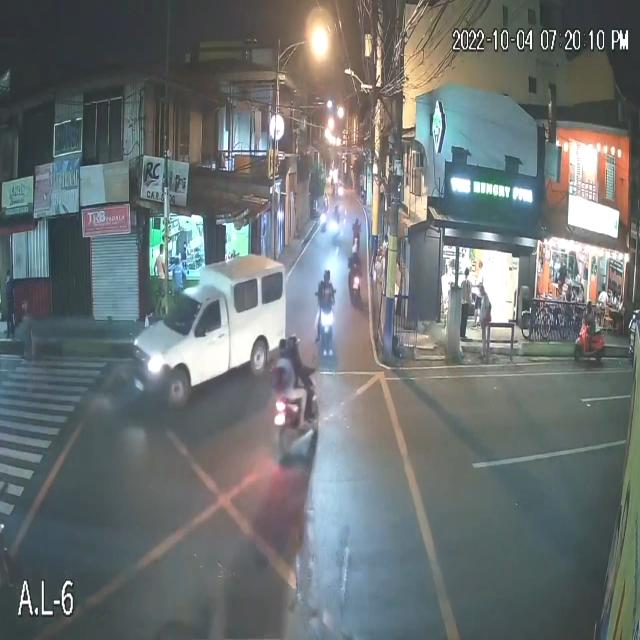Full-Faced: (286, 326, 302, 356), (277, 334, 290, 362), (321, 263, 333, 286), (350, 238, 360, 259)
